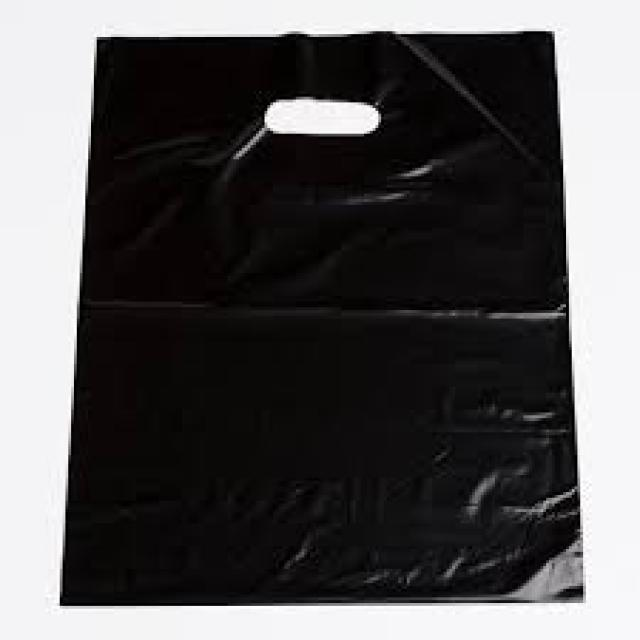plastic: (57, 28, 583, 603)
